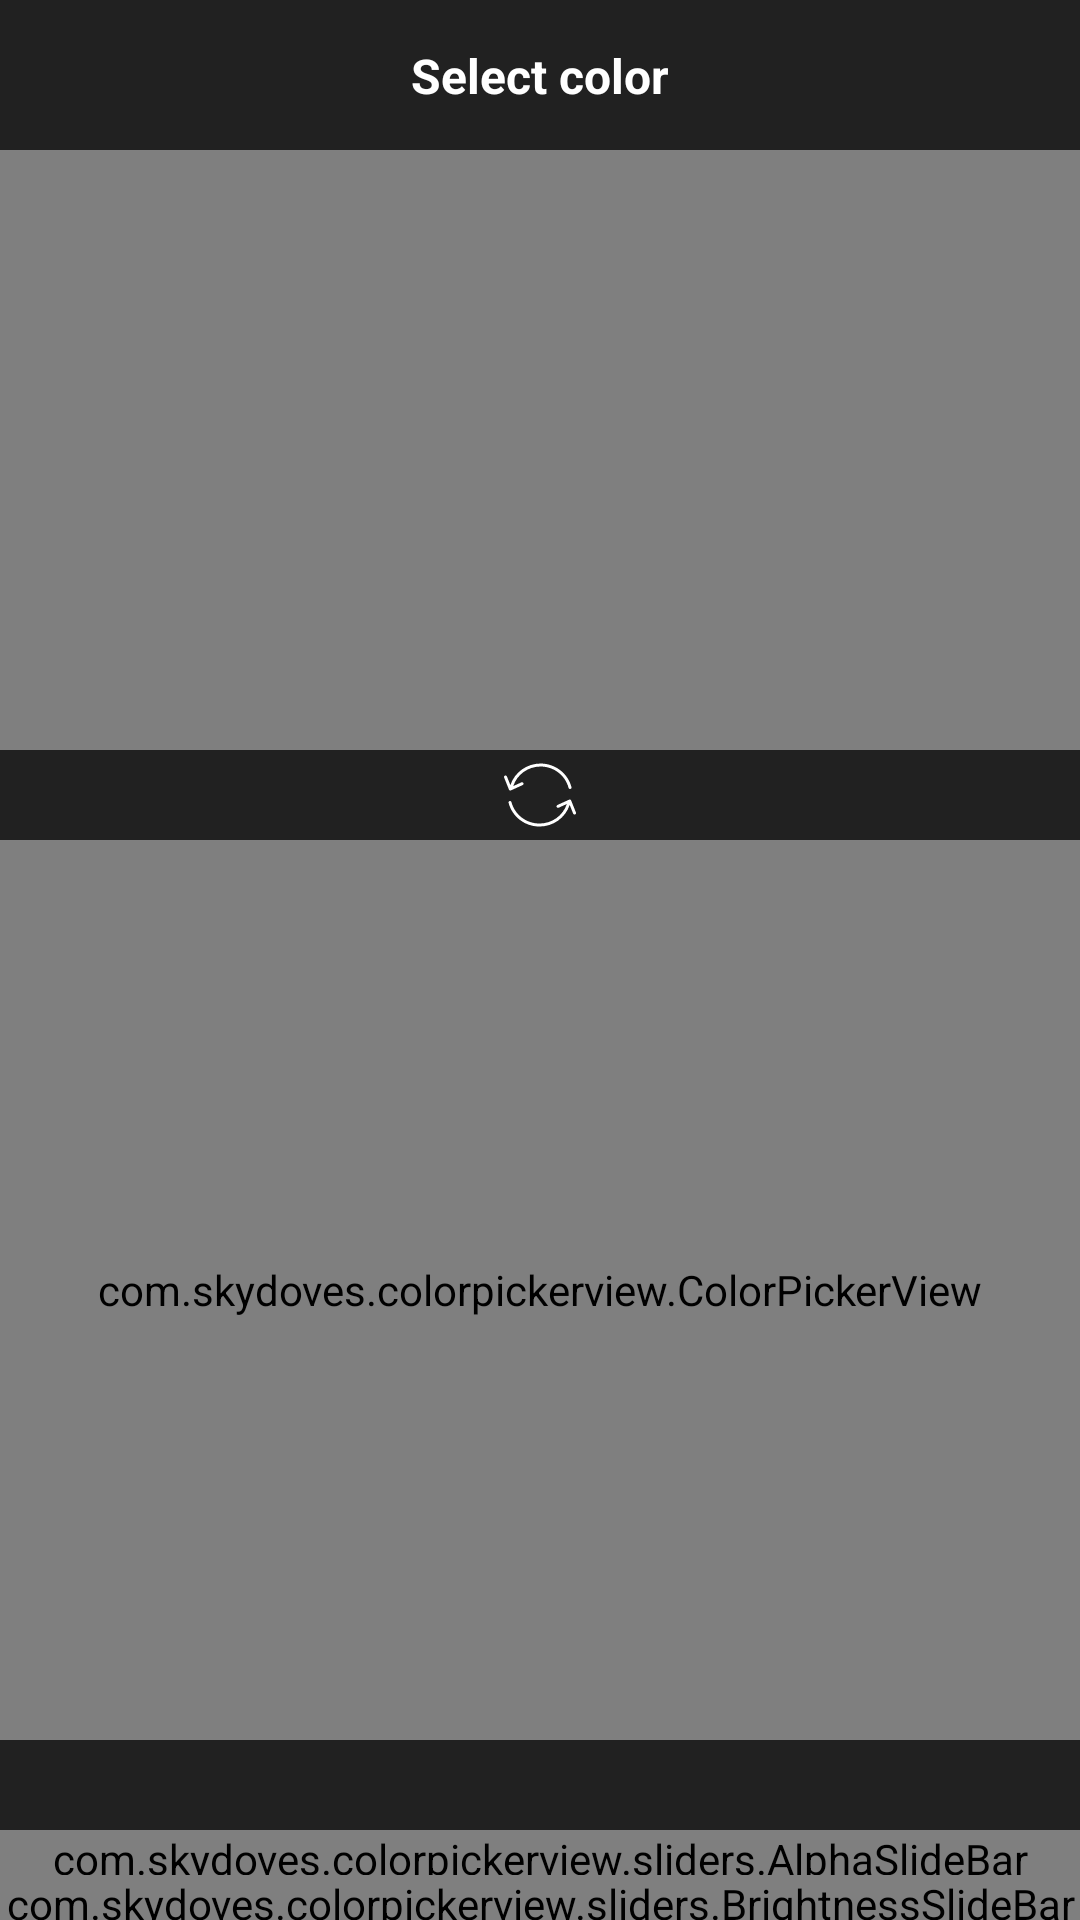

Point at icon controls on the screen. Image size 1080px x 1920px, points as (x=x, y=y).
refresh: (x=540, y=795)
